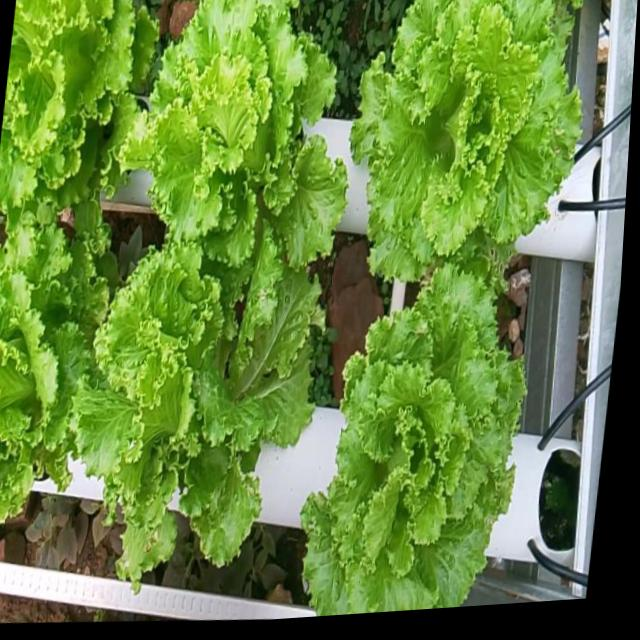Mature: (63, 258, 312, 593), (292, 268, 515, 617), (339, 0, 574, 289), (120, 0, 336, 300), (0, 0, 145, 238), (0, 239, 96, 531)
